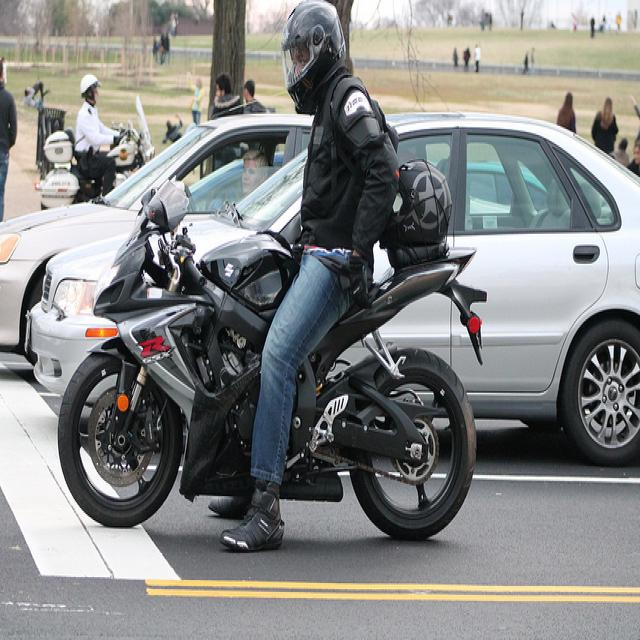motor: (59, 159, 487, 537), (37, 98, 153, 210)
